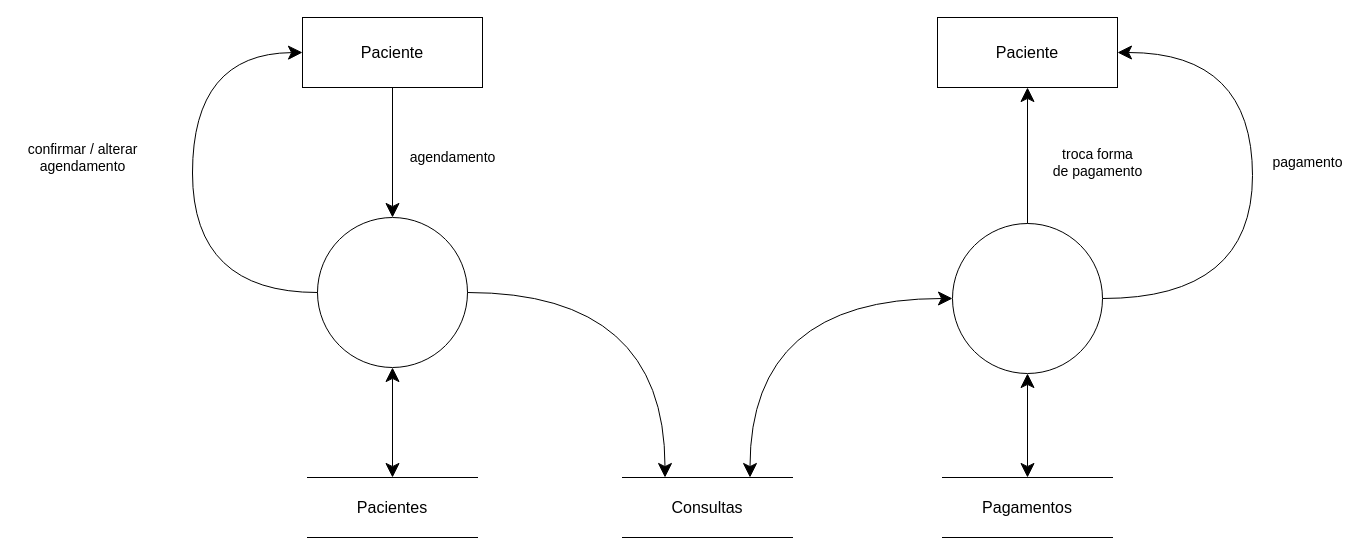
Some shapes in this 1369 by 555 pixel diagram are drawn without their labels. The shapes that lost their labels are listed below. From the top down, each one's box as (x1, y1, x2, y2) in pixels, then its label:
(316, 216, 468, 368): Gerenciar Agendamentos
(952, 222, 1102, 374): Cobrar Consulta
